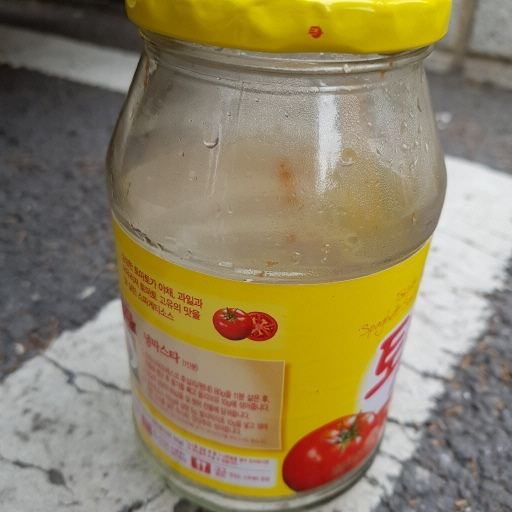Glass_5: (104, 2, 450, 512)
